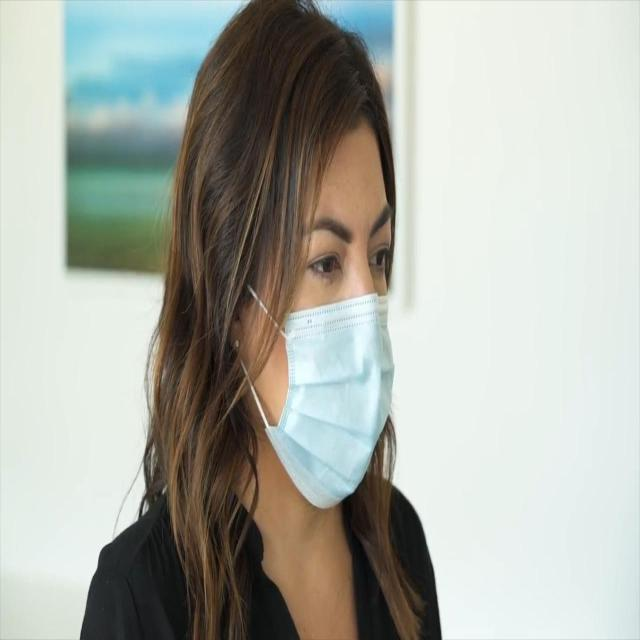Mask: (238, 118, 398, 512)
